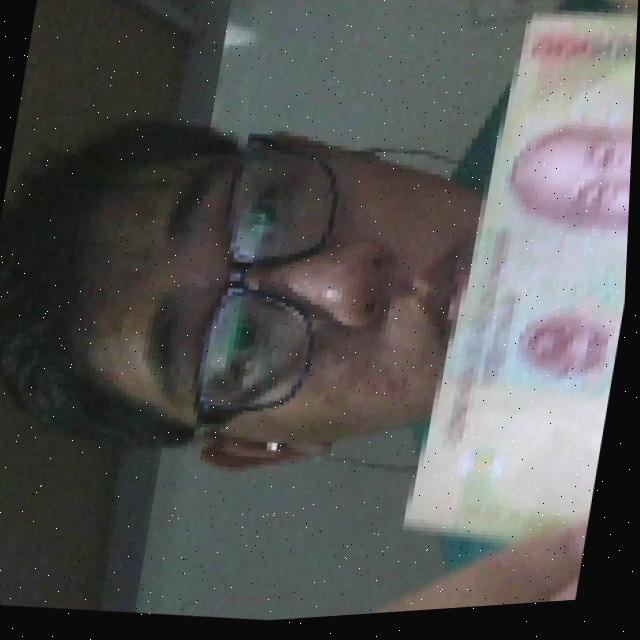10 000 VND: (394, 0, 639, 572)
